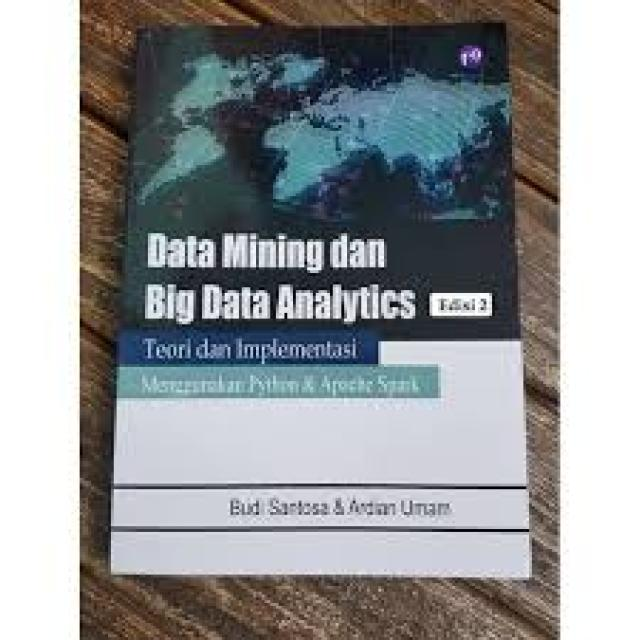book: (104, 19, 532, 583)
